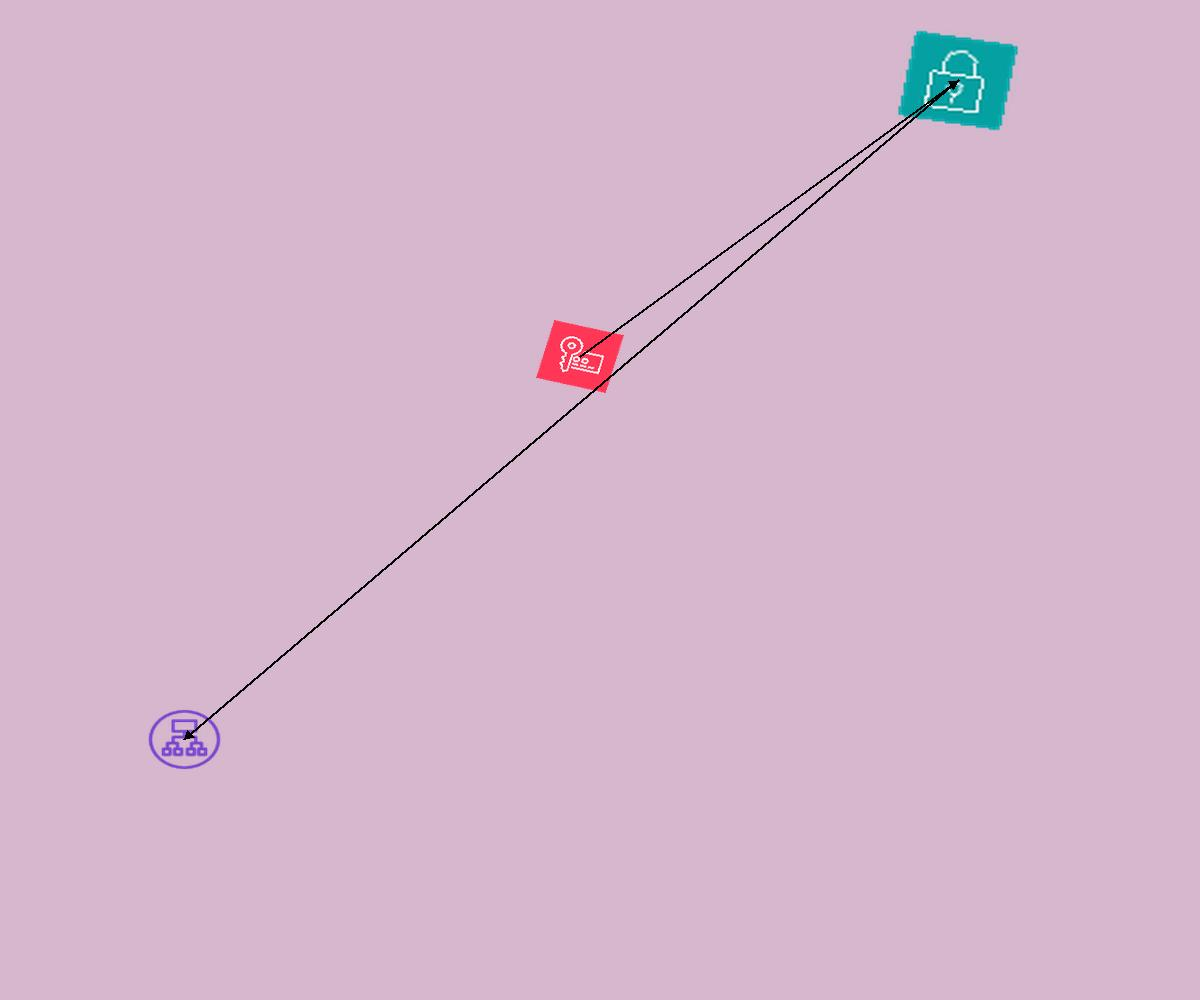AWS-Key-Management-Service: (536, 320, 624, 393)
AWS-Private-subnet: (896, 29, 1020, 132)
AWS-Res_Elastic-Load-Balancing_Application-Load-Balancer: (144, 706, 225, 773)
